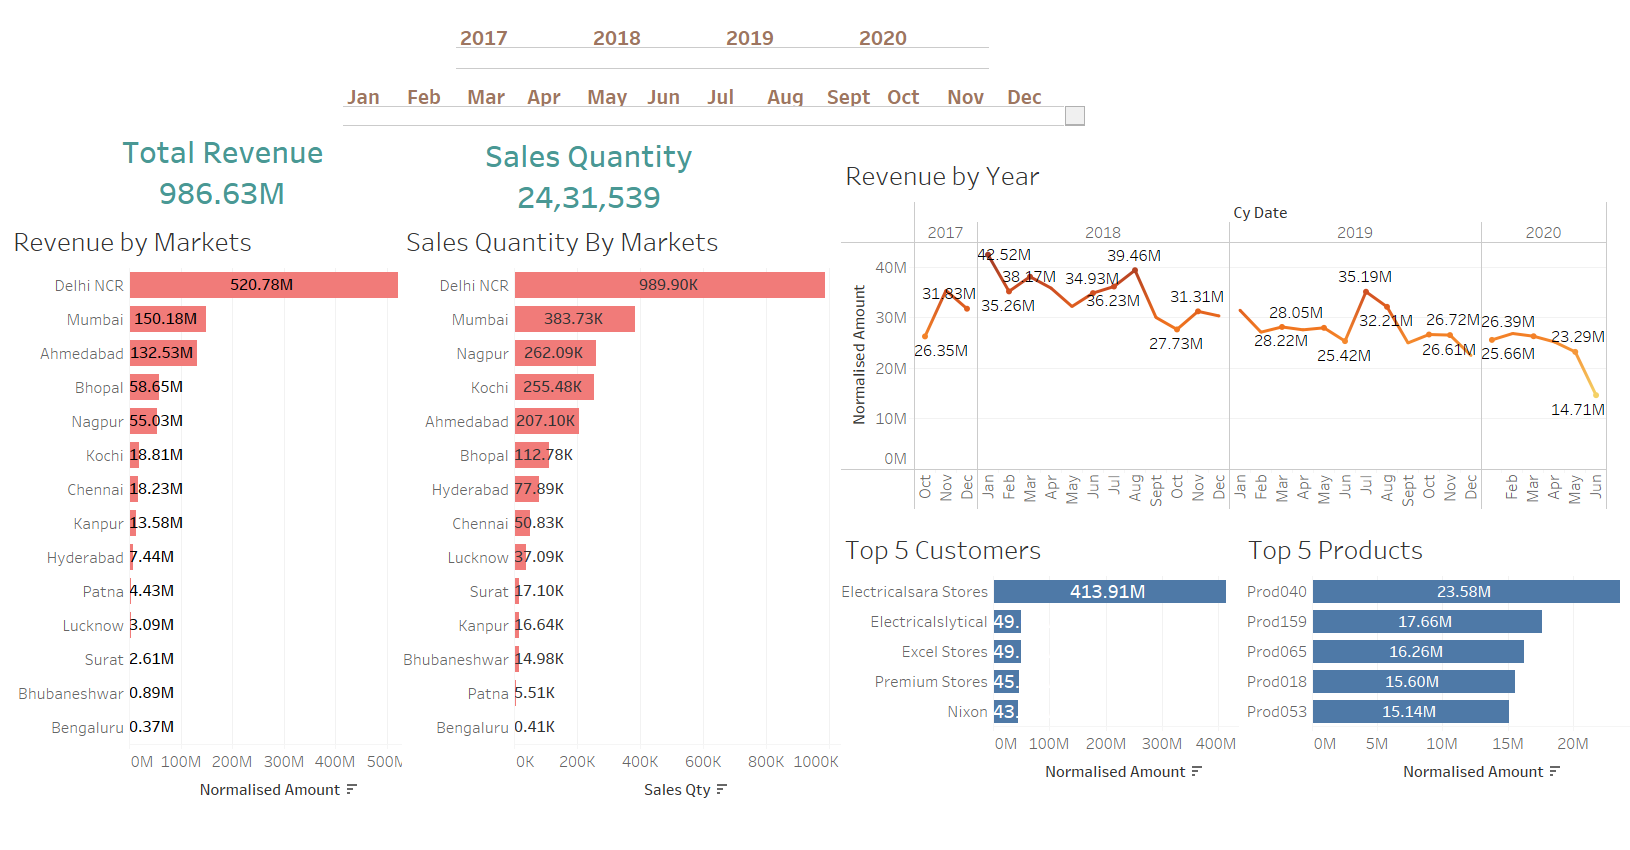

Layout of this report page (visuals, bound fields, positions):
{"tool":"tableau","page":{"name":"Dashboard 1","canvas":[1630,850],"ordinal":0},"visuals":[{"type":"worksheet","title":"Year","mark":"Automatic","cols":["cy_date"],"box":[456.4,11.3,593.3,60.4]},{"type":"worksheet","title":"Month","mark":"Automatic","cols":["cy_date"],"box":[343,71,788,55]},{"type":"worksheet","title":"Revenue","mark":"Automatic","box":[113,116,250,101]},{"type":"worksheet","title":"Sales Quantity","mark":"Automatic","box":[479,120,239,104]},{"type":"worksheet","title":"Revenue by Year","mark":"Automatic","rows":["Calculation_1336161728351907840"],"cols":["cy_date","cy_date"],"box":[841,152,767,358]},{"type":"worksheet","title":"Revenue by Markets","mark":"Automatic","rows":["markets_name"],"cols":["Calculation_1336161728351907840"],"box":[9,218,402,624]},{"type":"worksheet","title":"Sales Quantity by Markets","mark":"Automatic","rows":["markets_name"],"cols":["sales_qty"],"box":[402,218,439,615]},{"type":"worksheet","title":"Top 5 Customers","mark":"Automatic","rows":["custmer_name"],"cols":["Calculation_1336161728351907840"],"box":[841,526,397,283]},{"type":"worksheet","title":"Top 5 Products","mark":"Automatic","rows":["product_code (products)"],"cols":["Calculation_1336161728351907840"],"box":[1244,526,391,283]}]}

Visuals, with their boxes in screenshot pixels (x1, y1, x2, y2), scaled from the page's 1630x850 canvas onto the 1630x850 screenshot:
"Year" worksheet: 456,11,1050,72
"Month" worksheet: 343,71,1131,126
"Revenue" worksheet: 113,116,363,217
"Sales Quantity" worksheet: 479,120,718,224
"Revenue by Year" worksheet: 841,152,1608,510
"Revenue by Markets" worksheet: 9,218,411,842
"Sales Quantity by Markets" worksheet: 402,218,841,833
"Top 5 Customers" worksheet: 841,526,1238,809
"Top 5 Products" worksheet: 1244,526,1629,809
